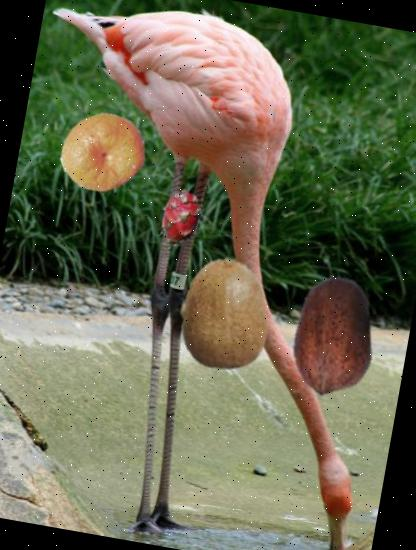Kiwi: (158, 248, 291, 381)
Mandarine: (53, 104, 151, 202)
Nut: (262, 266, 402, 406)
Pitahaya: (148, 184, 215, 251)
